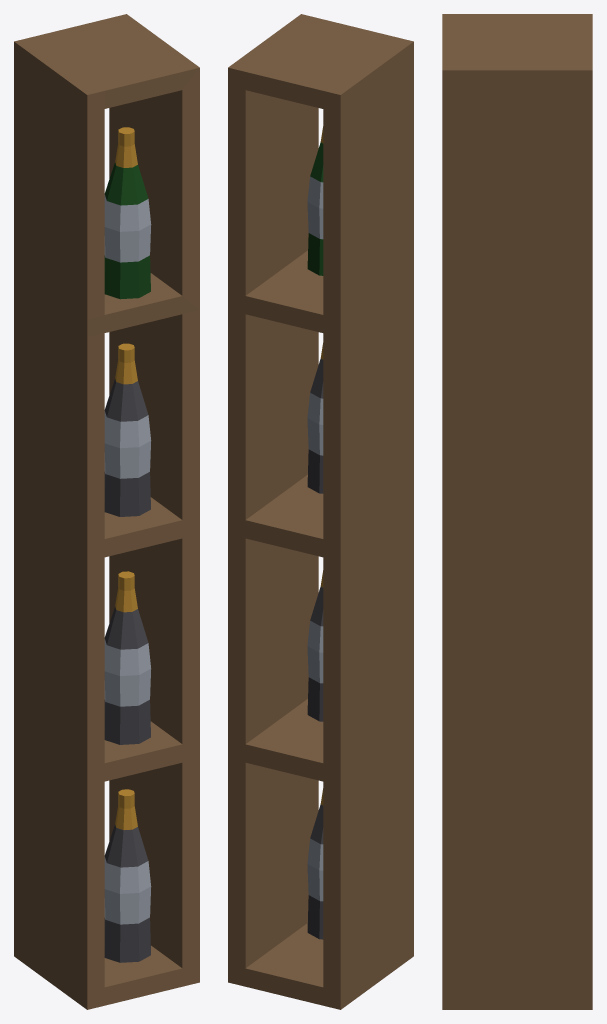
The model's file is Accesories_Wineshelf_A.glb.
3 views of the same model, side by side, from view 1: azimuth 30°, elevation 25°; view 2: azimuth 150°, elevation 25°; view 3: azimuth 270°, elevation 25° (orthographic). The views are drawn at different scales.
Parts seen in each view (by area): view 1: Accesories_Wineshelf_A; view 2: Accesories_Wineshelf_A; view 3: Accesories_Wineshelf_A.
Part boxes in pixels (x1,y1,x2,y2): Accesories_Wineshelf_A: (14,14,199,1009); Accesories_Wineshelf_A: (228,14,413,1009); Accesories_Wineshelf_A: (442,14,592,1009).
Size of the model in its own units: 0.2009 by 1.56 by 0.2262.
1 material, 1 textured.
